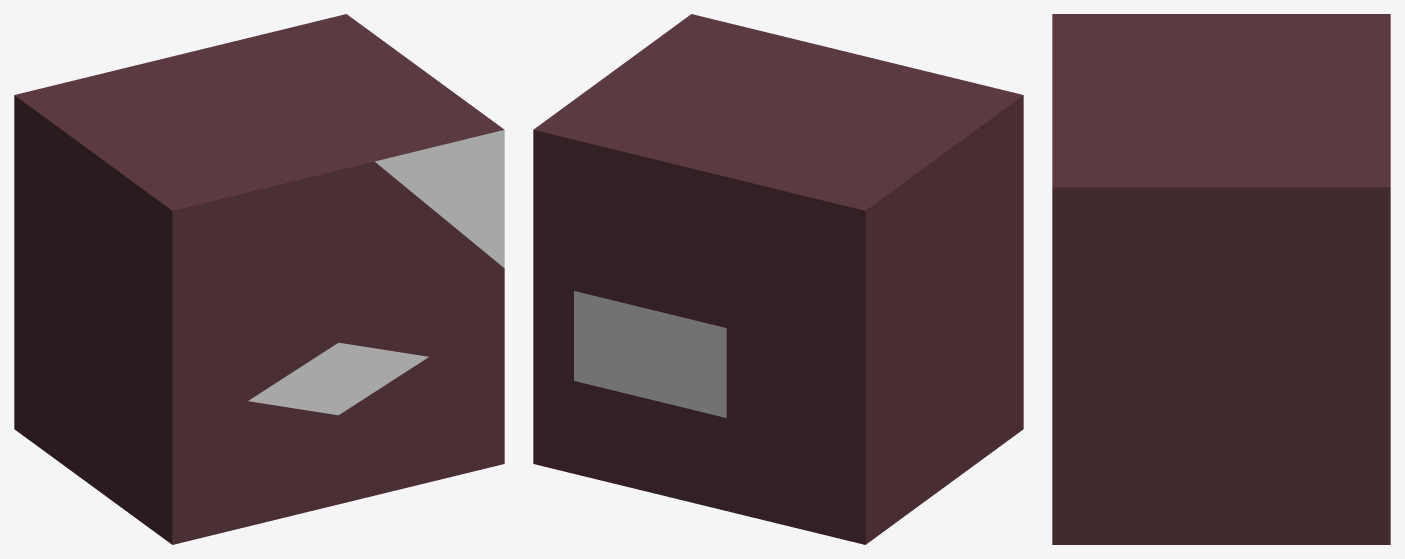
Rendered from weapons-ammo-shotgun.glb.
3 renders of one model, left to right at view 1: azimuth 30°, elevation 25°; view 2: azimuth 150°, elevation 25°; view 3: azimuth 270°, elevation 25°, orthographic. The views are drawn at different scales.
Parts seen in each view (by area): view 1: ammo-shotgun; view 2: ammo-shotgun; view 3: ammo-shotgun.
Part boxes in pixels (bbox=[...]): ammo-shotgun: bbox=[14, 14, 504, 544]; ammo-shotgun: bbox=[533, 14, 1023, 544]; ammo-shotgun: bbox=[1052, 14, 1390, 544].
Bounding box in the file's own units: 0.0869 × 0.0835 × 0.0717.
